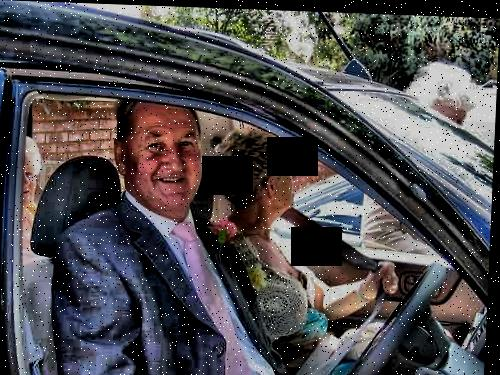seatbelt: (281, 202, 404, 306)
